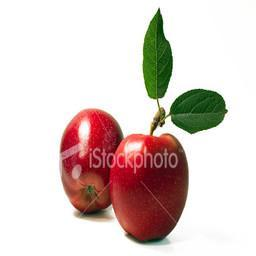apple: (111, 132, 189, 242), (58, 106, 124, 214)
